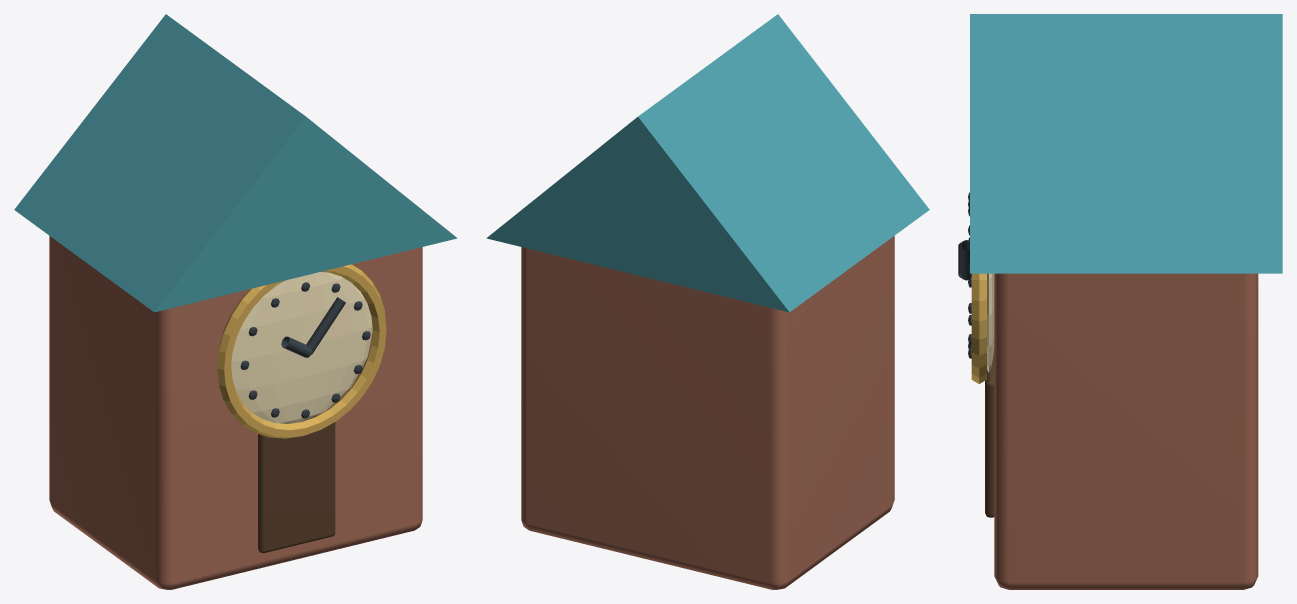
The model's file is netherlands-clock-house.glb.
The picture shows the model from 3 angles, left to right: view 1: azimuth 30°, elevation 25°; view 2: azimuth 150°, elevation 25°; view 3: azimuth 270°, elevation 25°; orthographic projection. The views are drawn at different scales.
Parts seen in each view (by area): view 1: きりづまの いえ, あおい きりづまやね, とけいの かお, とけいの したの とびら, とけいの わ, ながい はり; view 2: きりづまの いえ, あおい きりづまやね; view 3: きりづまの いえ, あおい きりづまやね, とけいの わ, とけいの したの とびら, とけいの かお.
Boxes of the visible parts, x1,y1,x2,y2 form: きりづまの いえ: (49, 236, 422, 589); あおい きりづまやね: (14, 14, 457, 312); とけいの かお: (231, 272, 372, 423); とけいの したの とびら: (258, 416, 335, 552); とけいの わ: (217, 264, 386, 438); ながい はり: (306, 297, 345, 354); きりづまの いえ: (521, 236, 894, 589); あおい きりづまやね: (486, 14, 929, 312); きりづまの いえ: (994, 273, 1258, 589); あおい きりづまやね: (970, 14, 1282, 273); とけいの わ: (971, 273, 986, 383); とけいの したの とびら: (985, 349, 994, 517); とけいの かお: (987, 273, 994, 372).
Size of the model in its own units: 0.8 by 1.15 by 0.664.
